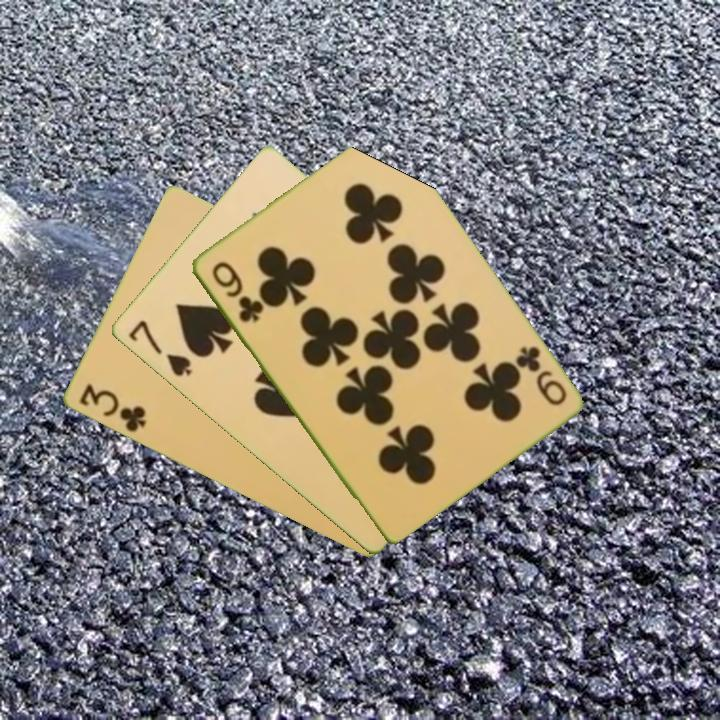3c: (75, 380, 149, 435)
7s: (124, 316, 194, 380)
9c: (207, 257, 264, 326), (511, 342, 569, 409)
